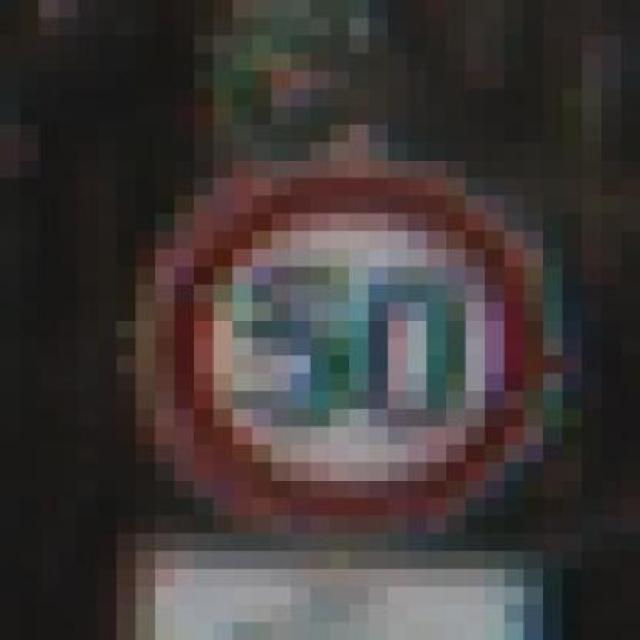forb_speed_over_50: (179, 173, 545, 524)
